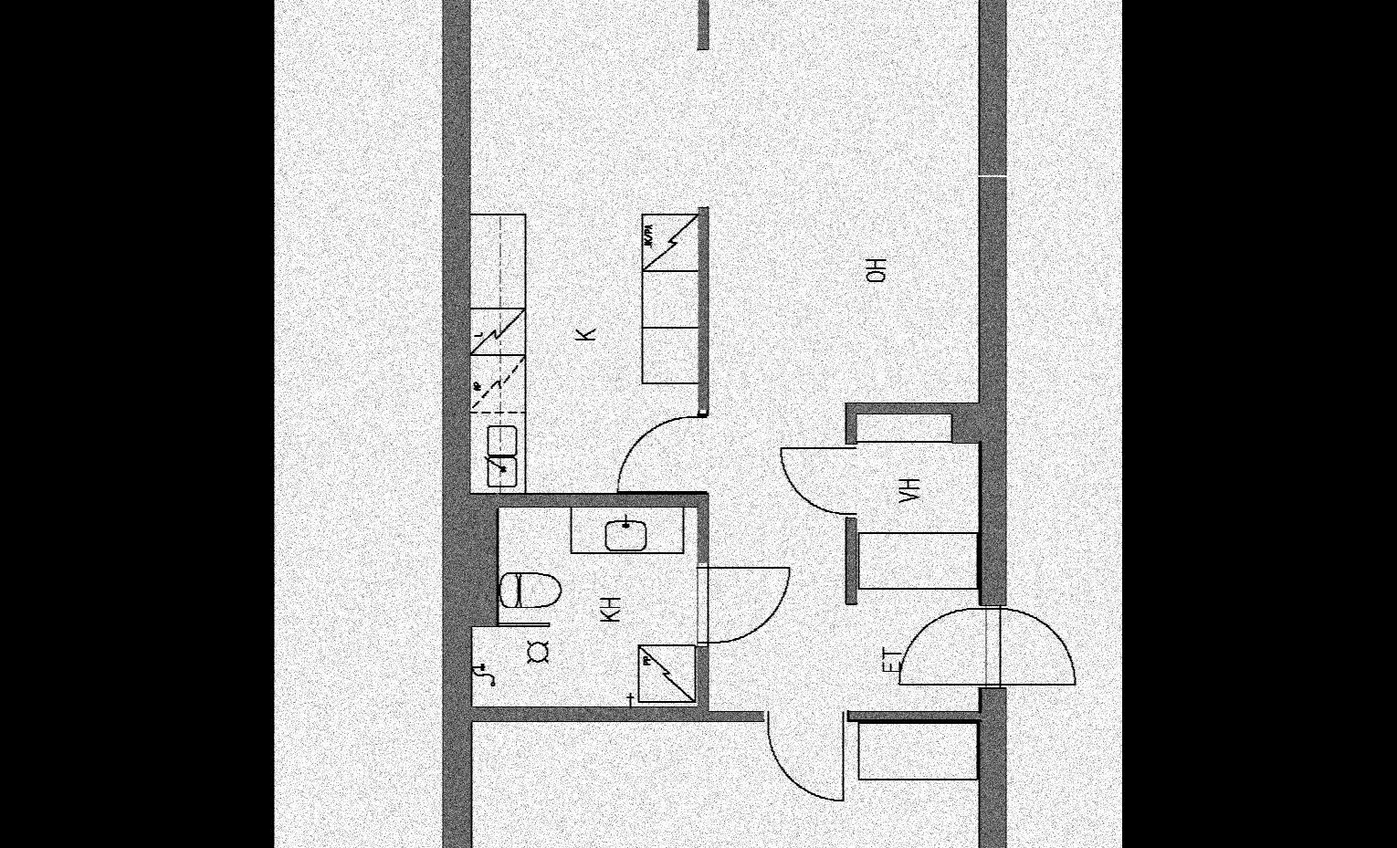door: (466, 0, 975, 707), (469, 724, 979, 848), (468, 502, 693, 705)
window: (894, 606, 1078, 690), (696, 555, 798, 645), (763, 709, 850, 806), (620, 412, 706, 495), (776, 433, 865, 513)
